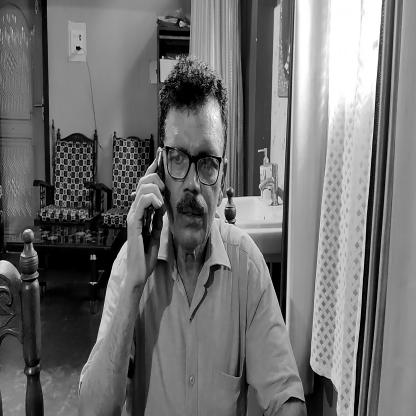Normal: (158, 67, 233, 255)
